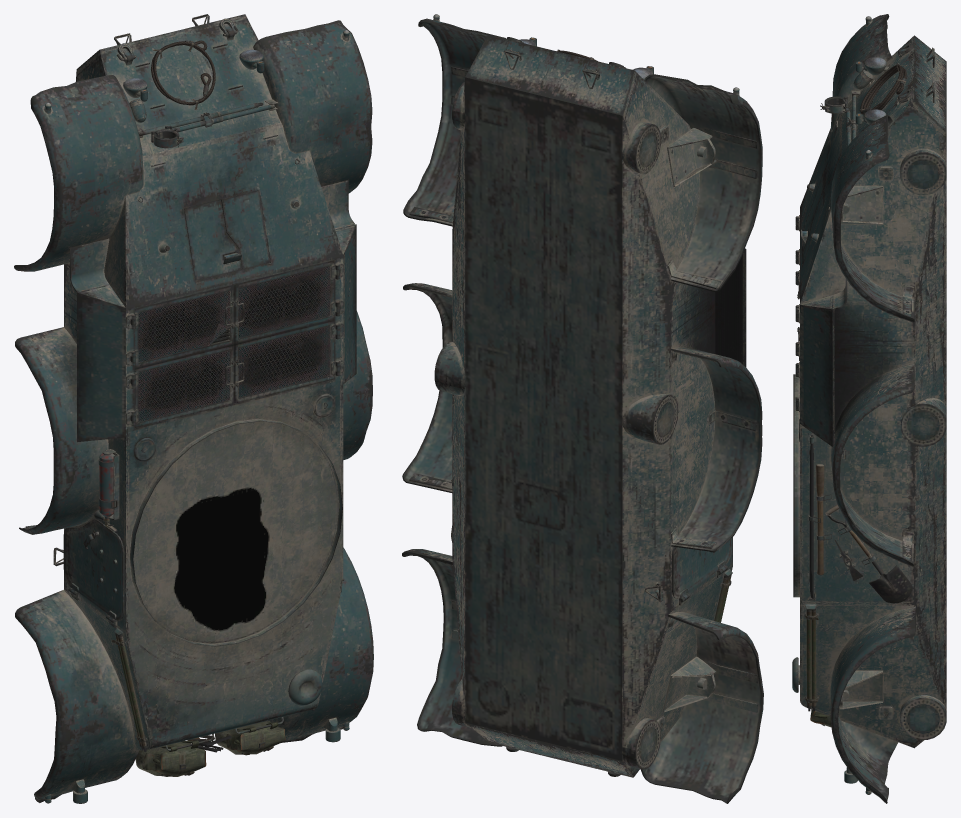
Rendered from Hull.glb.
3 renders of one model, left to right at view 1: azimuth 30°, elevation 25°; view 2: azimuth 150°, elevation 25°; view 3: azimuth 270°, elevation 25°, orthographic. The views are drawn at different scales.
Parts seen in each view (by area): view 1: set_0_group_0; view 2: set_0_group_0; view 3: set_0_group_0.
Part boxes in pixels (<box>): set_0_group_0: <box>14,14,373,803</box>; set_0_group_0: <box>402,14,763,803</box>; set_0_group_0: <box>792,14,946,803</box>.
Bounding box in the file's own units: 2.53 × 5.49 × 1.15.
Materials: 1 (1 with a texture image).
